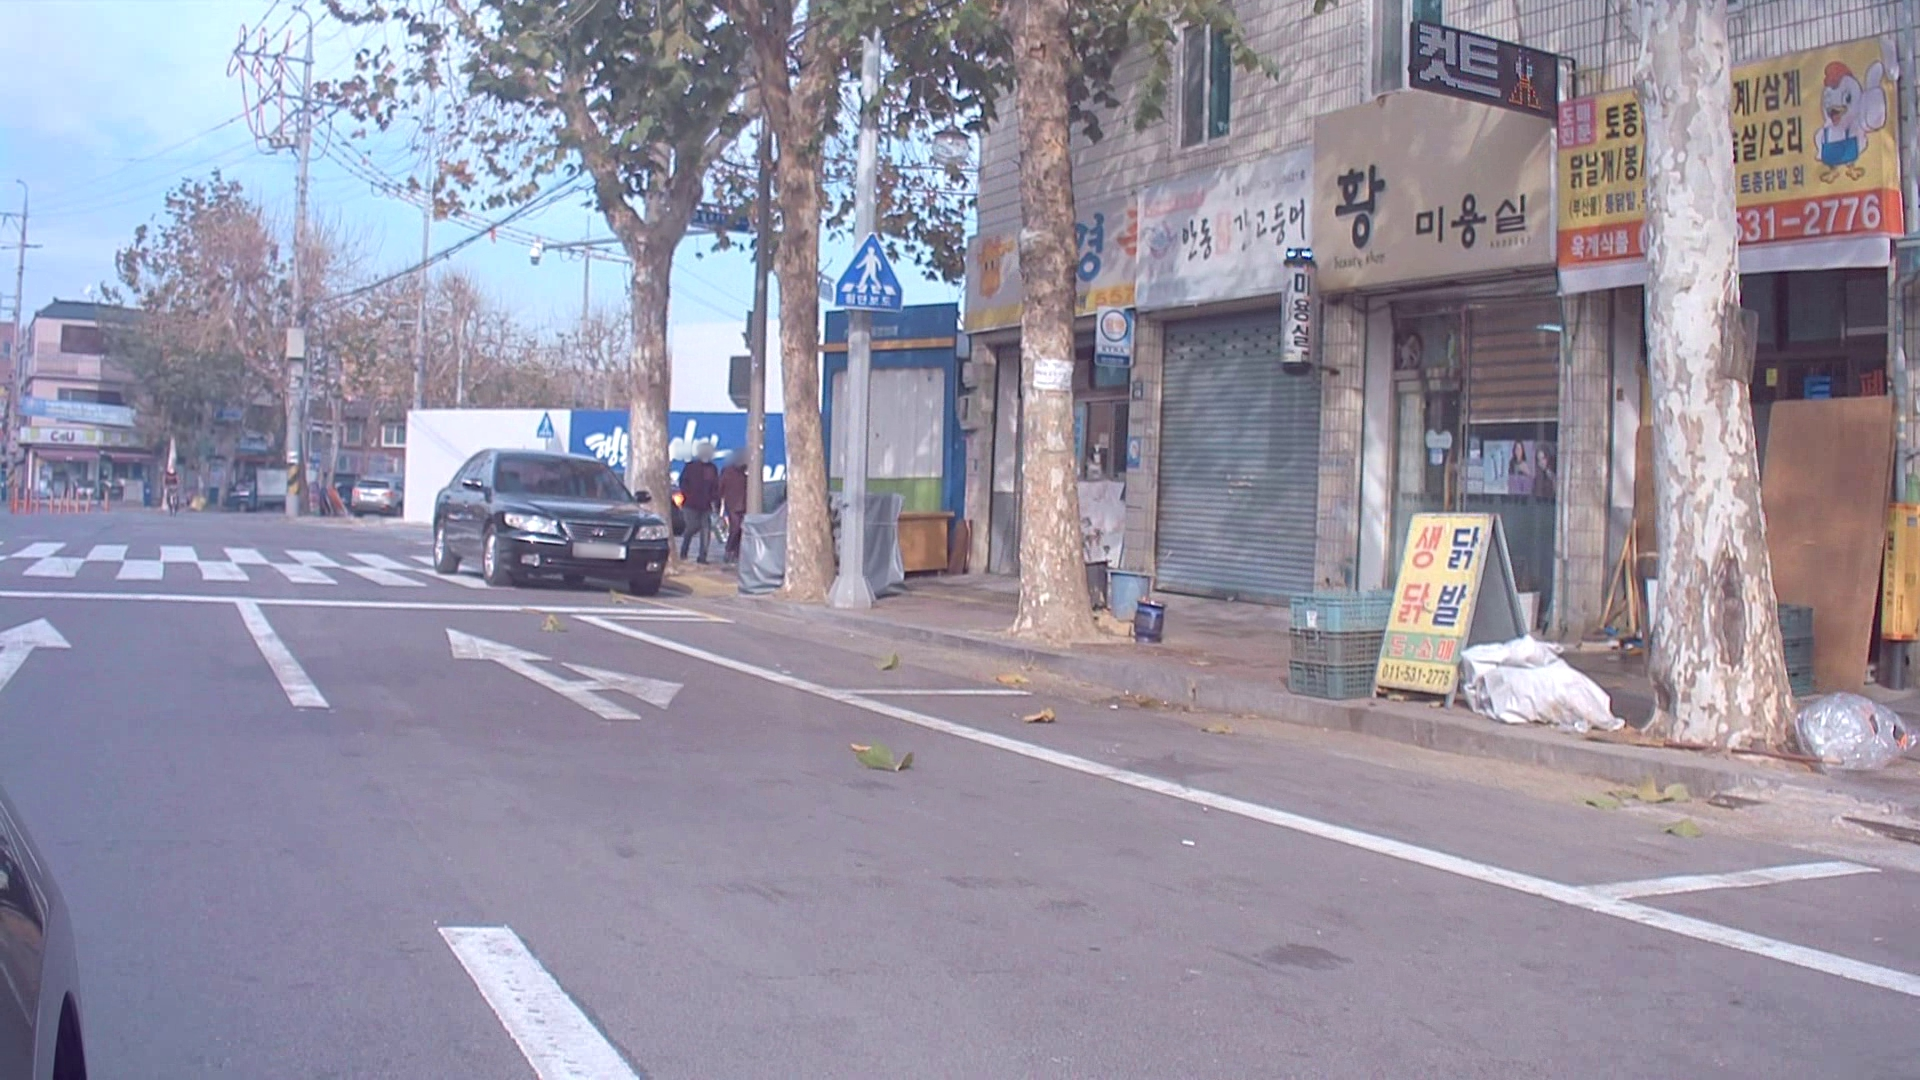trafficSignTri: (832, 228, 910, 311), (535, 413, 556, 440)
